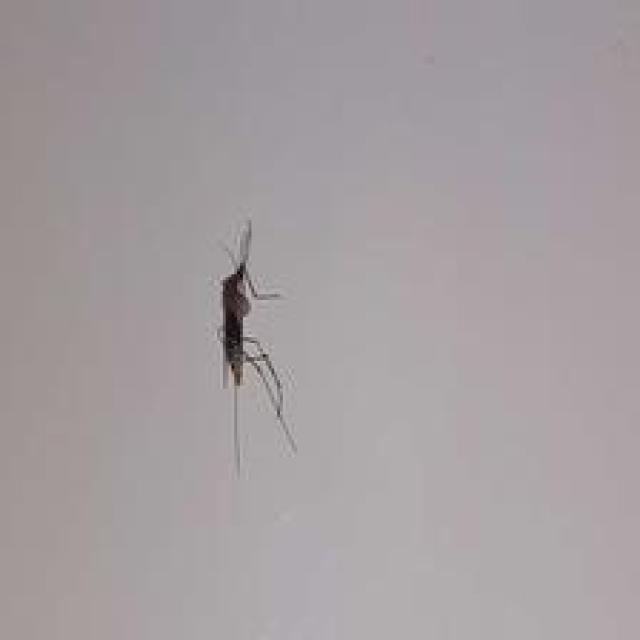Culex: (213, 218, 298, 476)
